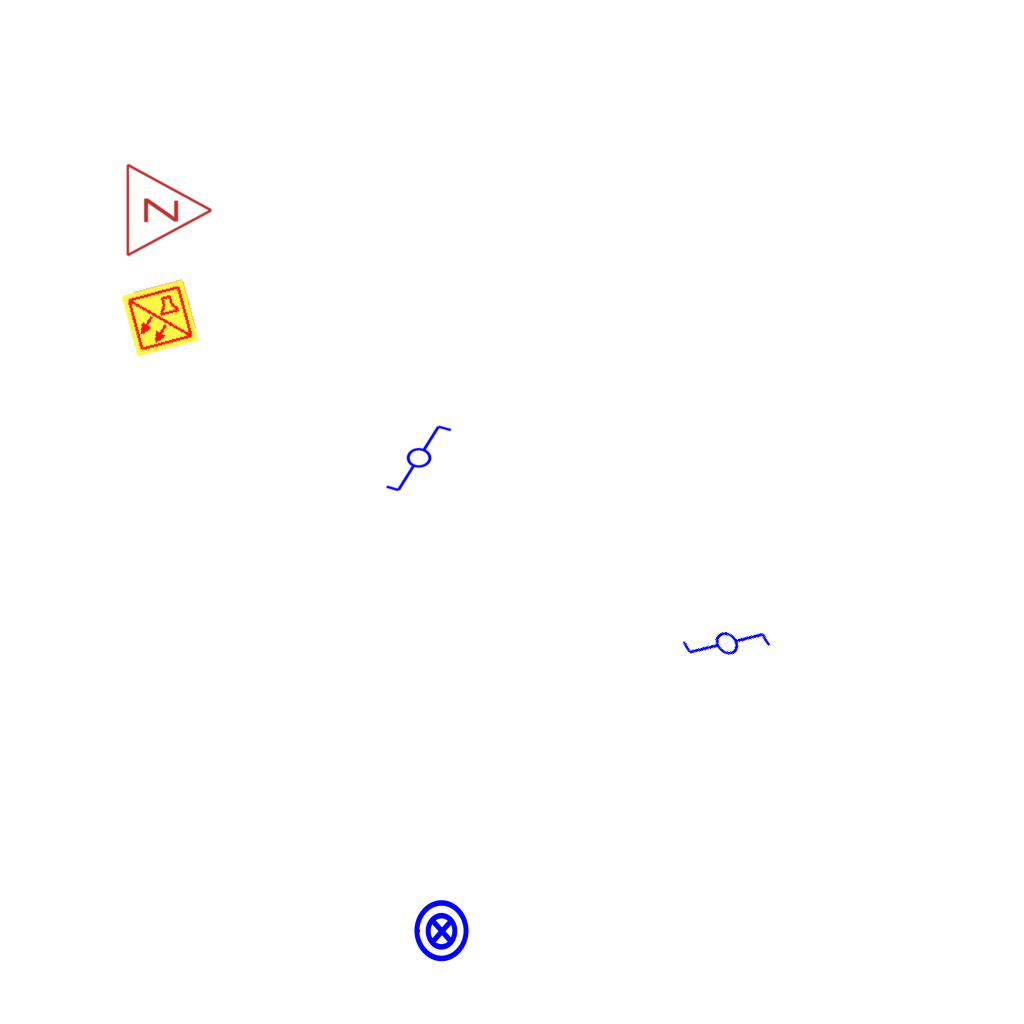OKW_Multisensormelder_(Kombination_optischer_Rauch-Kahlenmonoxid_Waerme-Melder): (119, 277, 201, 359)
Taster_beleuchtet: (409, 898, 475, 964)
Wechselschalter: (675, 594, 783, 700), (384, 423, 462, 495)
Zimmersignalleuchte: (119, 160, 219, 258)
